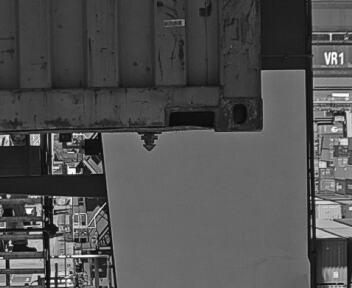twist_lock_2: (197, 129, 239, 173)
